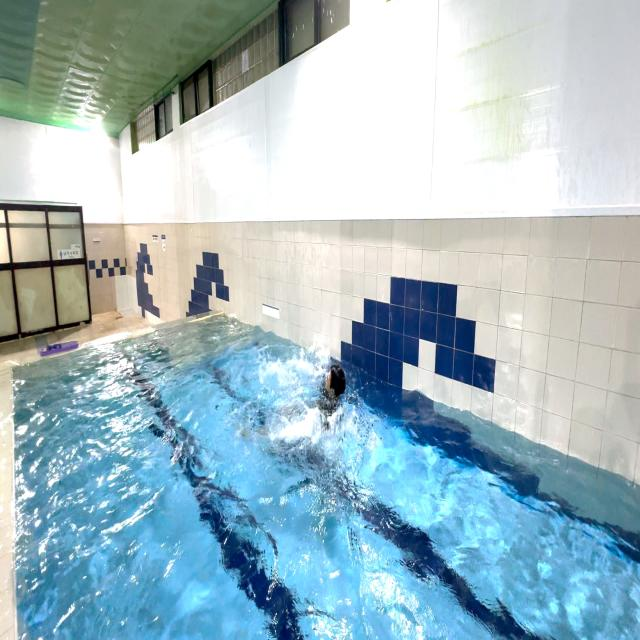Swimming: (272, 346, 353, 468)
